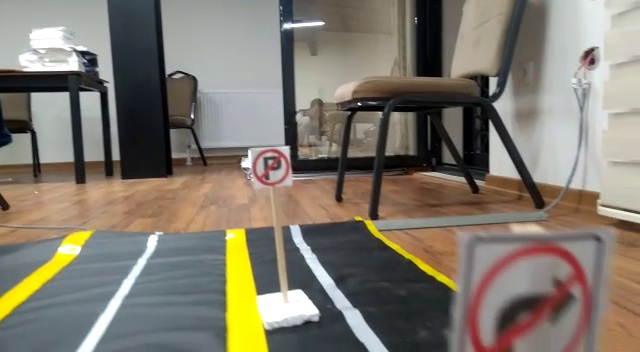park_yapilmaz: (250, 147, 291, 186)
saga_donulmez: (467, 231, 605, 352)
